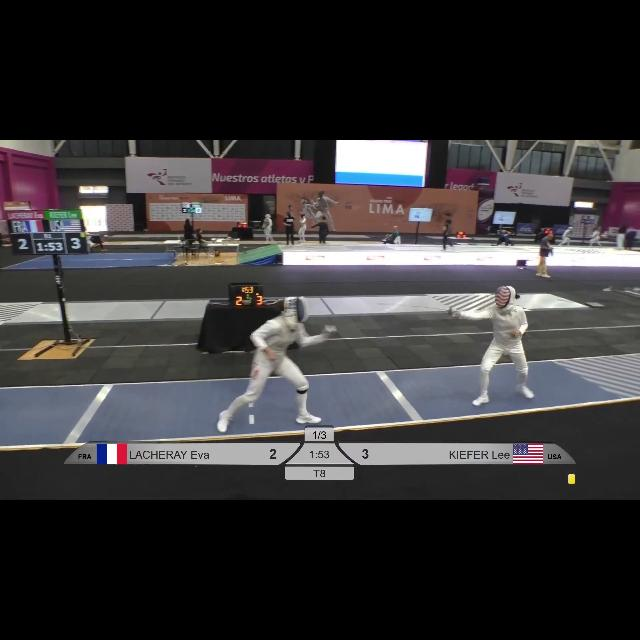blade: (378, 304, 457, 318)
